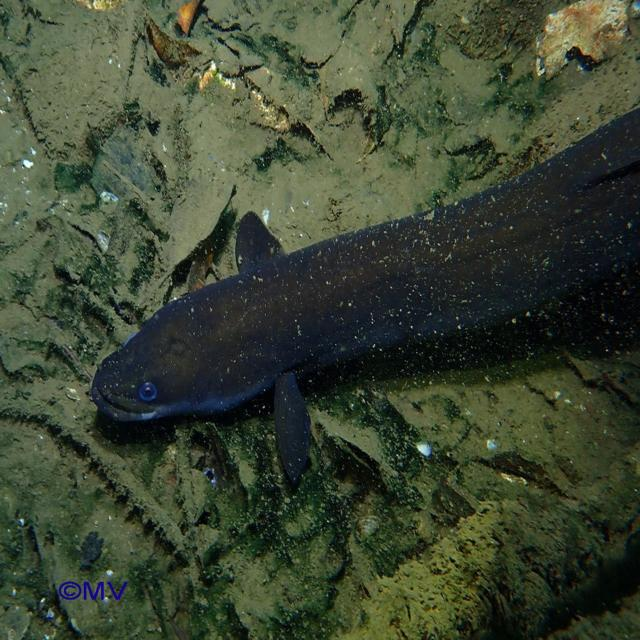Freshwater-Eel: (60, 81, 640, 495)
